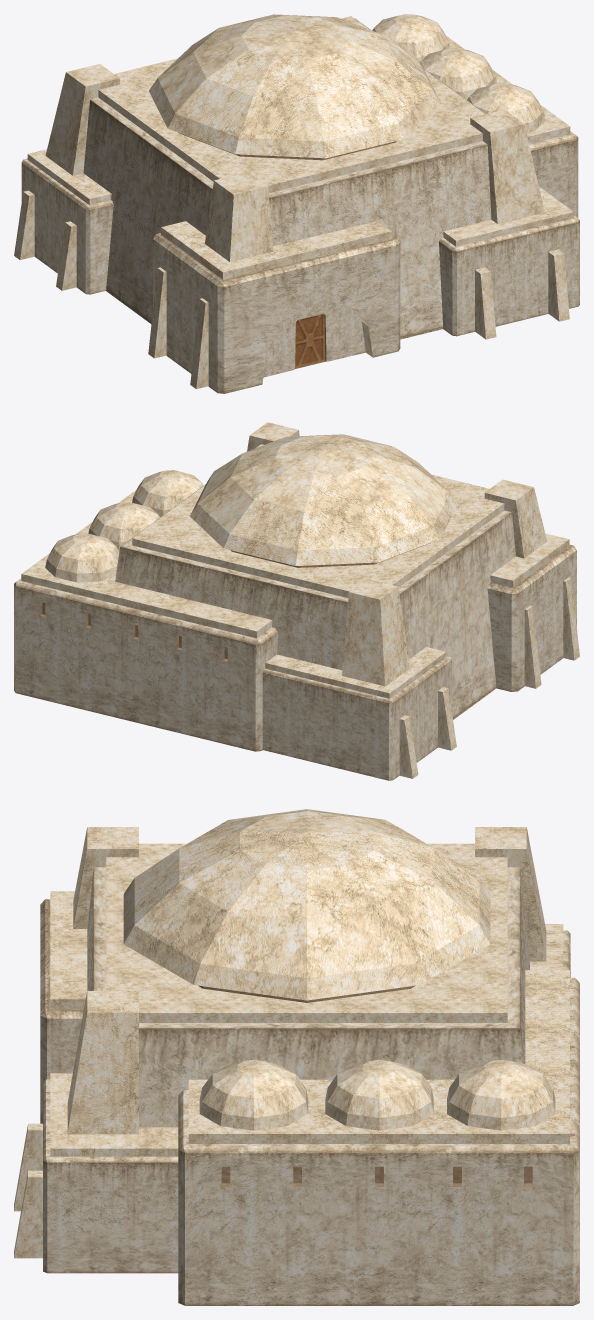
The model's file is thm_tato_imprv_building_s05_l1.fbx.
3 renders of one model, top to bottom at view 1: azimuth 30°, elevation 25°; view 2: azimuth 150°, elevation 25°; view 3: azimuth 270°, elevation 25°, orthographic. The views are drawn at different scales.
Parts seen in each view (by area): view 1: mesh_node; view 2: mesh_node; view 3: mesh_node.
Boxes of the visible parts, bbox=[...] form: mesh_node: bbox=[14, 14, 579, 393]; mesh_node: bbox=[14, 422, 579, 780]; mesh_node: bbox=[14, 809, 579, 1305].
Size of the model in its own units: 29.01 by 16.05 by 25.5.
